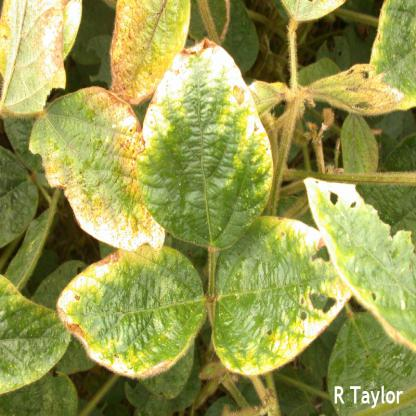Soybean leaf: (136, 37, 275, 251), (210, 213, 360, 379), (53, 243, 207, 379)
